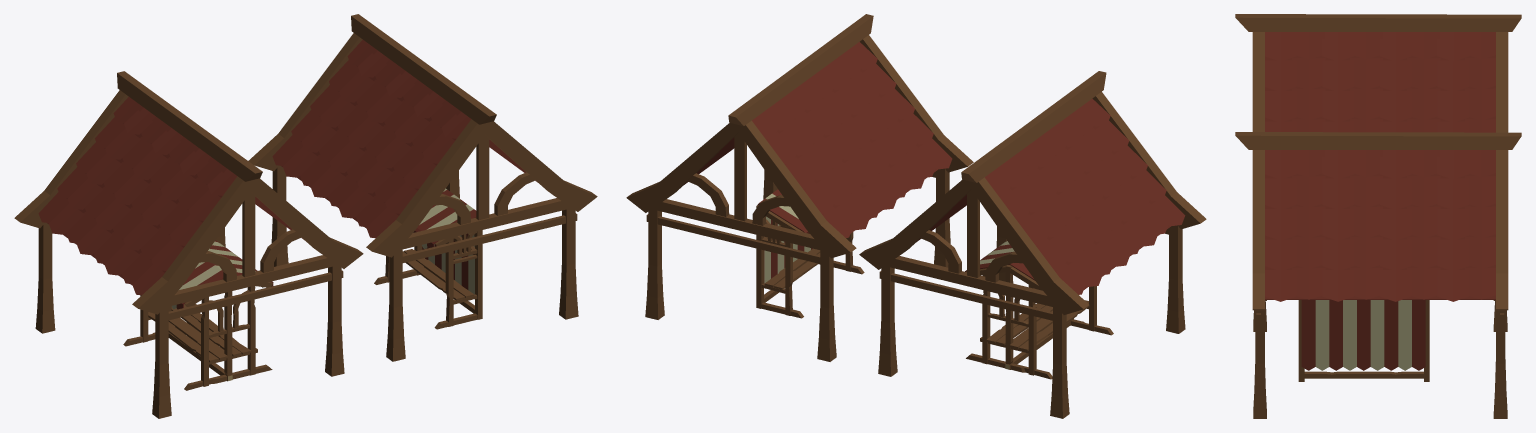
Rendered from london_trade_2.glb.
The picture shows the model from 3 angles, left to right: view 1: azimuth 30°, elevation 25°; view 2: azimuth 150°, elevation 25°; view 3: azimuth 270°, elevation 25°; orthographic projection. The views are drawn at different scales.
Visible parts, largest first — view 1: Gazebo (×2), MarketStand_1, MarketStand_2; view 2: Gazebo (×2), MarketStand_1, MarketStand_2; view 3: Gazebo (×2), MarketStand_2.
Boxes of the visible parts, bbox=[...] form: Gazebo (×2): bbox=[14, 14, 597, 418]; MarketStand_1: bbox=[123, 240, 273, 390]; MarketStand_2: bbox=[374, 188, 482, 329]; Gazebo (×2): bbox=[626, 14, 1206, 418]; MarketStand_1: bbox=[965, 241, 1113, 379]; MarketStand_2: bbox=[756, 189, 864, 318]; Gazebo (×2): bbox=[1235, 14, 1521, 418]; MarketStand_2: bbox=[1298, 300, 1429, 381].
Bounding box in the file's own units: 16.9 × 8.1 × 8.82.
